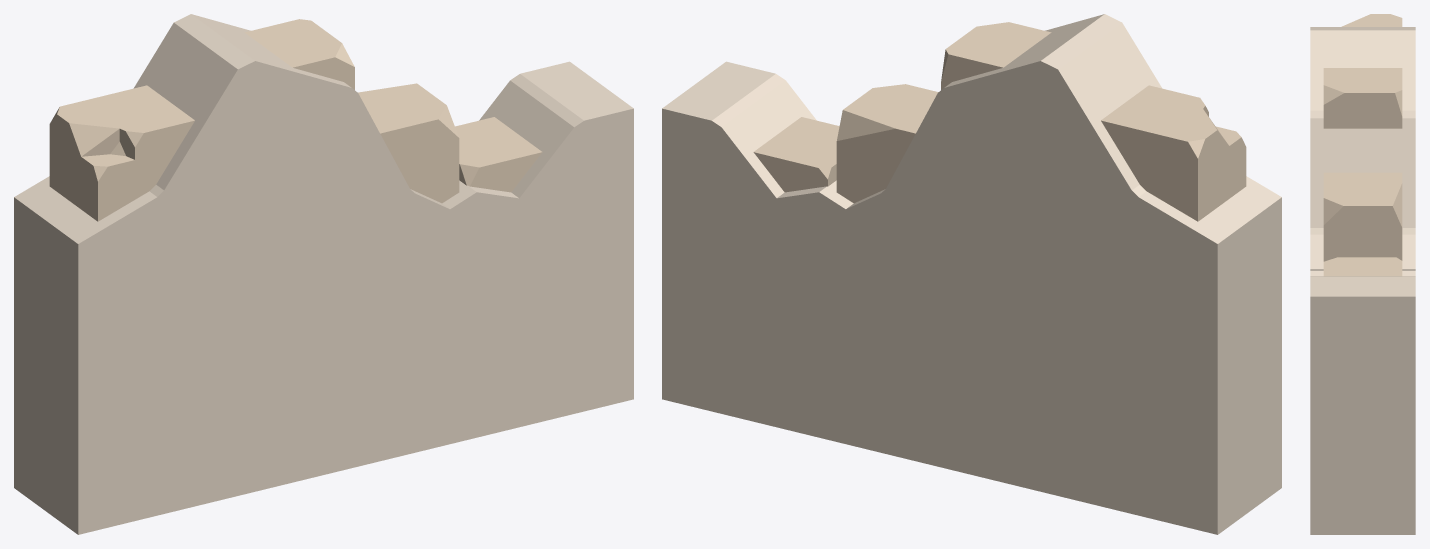
Rendered from temple_Wall_Ruined_Half_1.glb.
3 renders of one model, left to right at view 1: azimuth 30°, elevation 25°; view 2: azimuth 150°, elevation 25°; view 3: azimuth 270°, elevation 25°, orthographic. The views are drawn at different scales.
Parts seen in each view (by area): view 1: object1; view 2: object1; view 3: object1.
Boxes of the visible parts, left/top/right/bottom form: object1: left=14, top=14, right=633, bottom=534; object1: left=662, top=14, right=1281, bottom=534; object1: left=1310, top=14, right=1415, bottom=534.
Size of the model in its own units: 1 by 0.7407 by 0.2.
